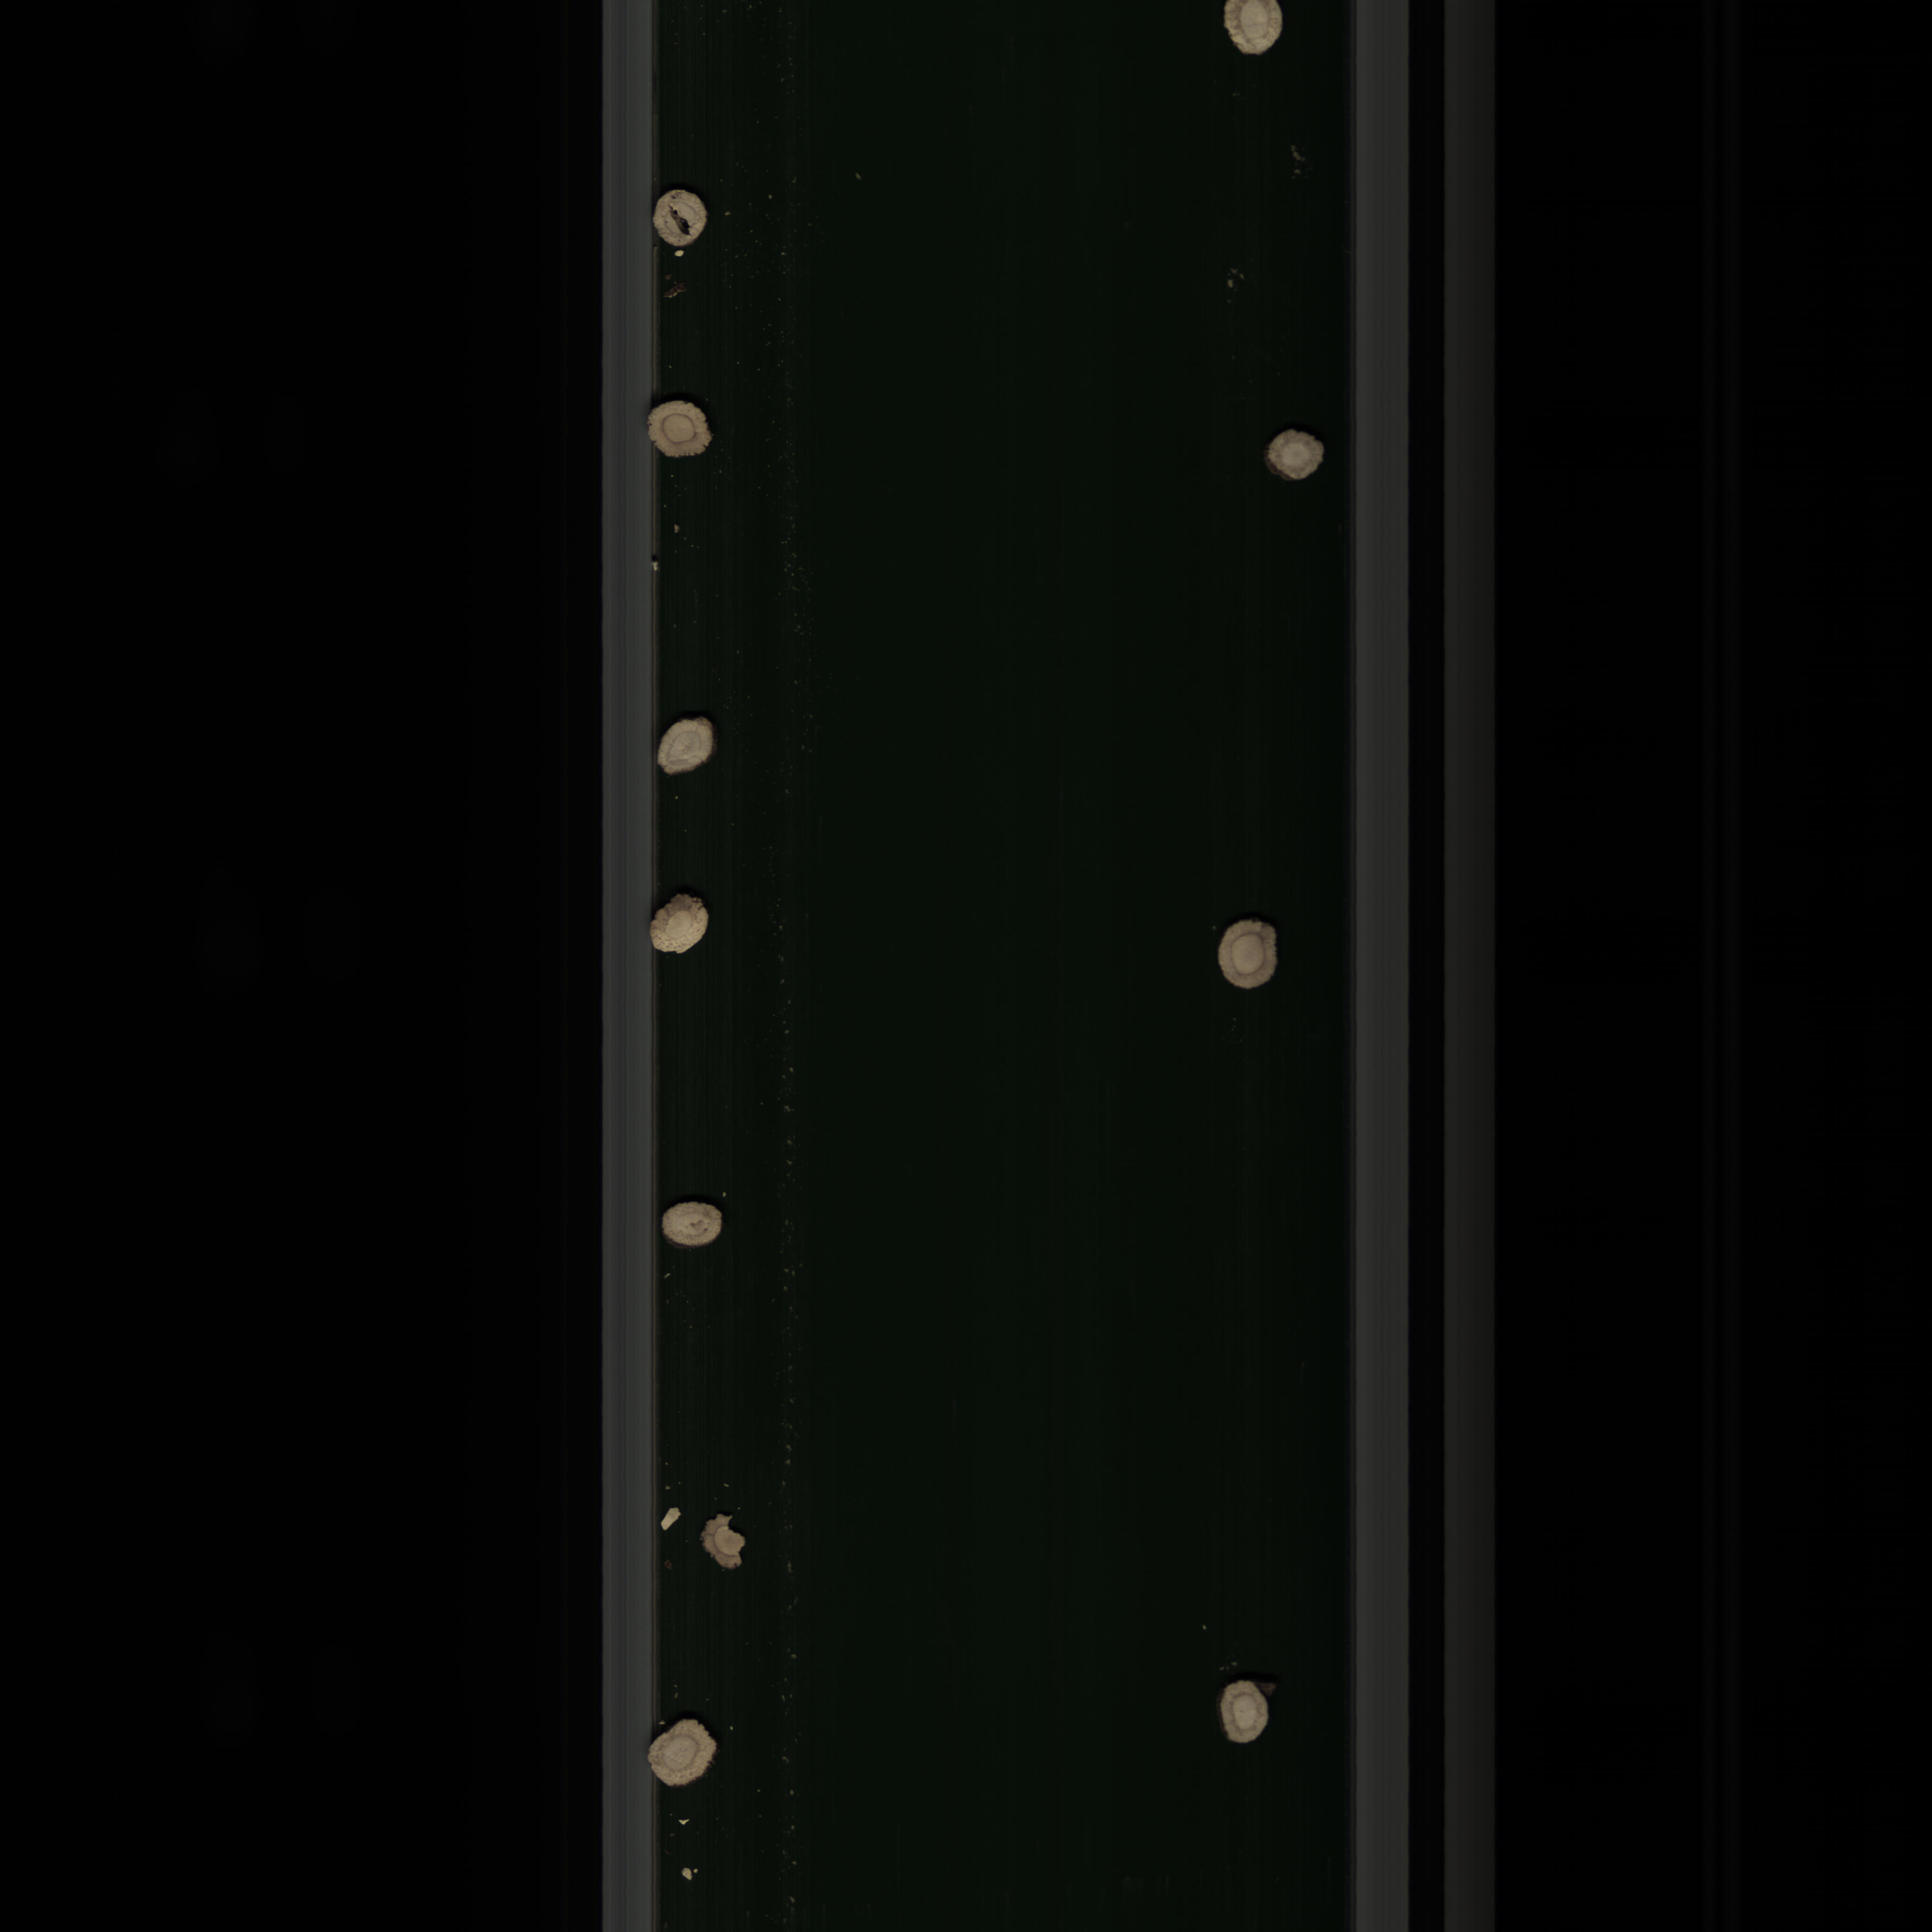debris: (699, 1509, 745, 1582)
moldy: (646, 393, 718, 474), (642, 175, 718, 246)
